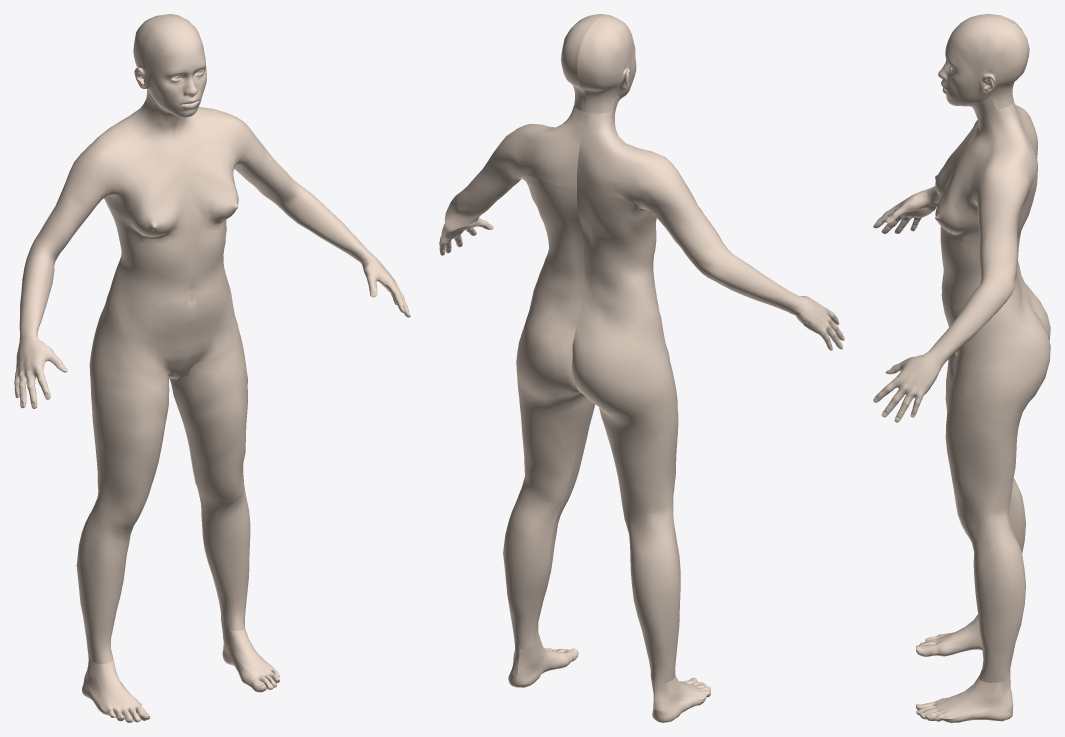
Rendered from avatar-female.glb.
The picture shows the model from 3 angles, left to right: view 1: azimuth 30°, elevation 25°; view 2: azimuth 150°, elevation 25°; view 3: azimuth 270°, elevation 25°; orthographic projection. The views are drawn at different scales.
Visible parts, largest first — view 1: avatar-female; view 2: avatar-female; view 3: avatar-female.
Boxes of the visible parts, <box> form: avatar-female: <box>14,14,410,722</box>; avatar-female: <box>439,14,844,722</box>; avatar-female: <box>873,14,1050,722</box>.
Size of the model in its own units: 0.9707 by 1.59 by 0.3834.
